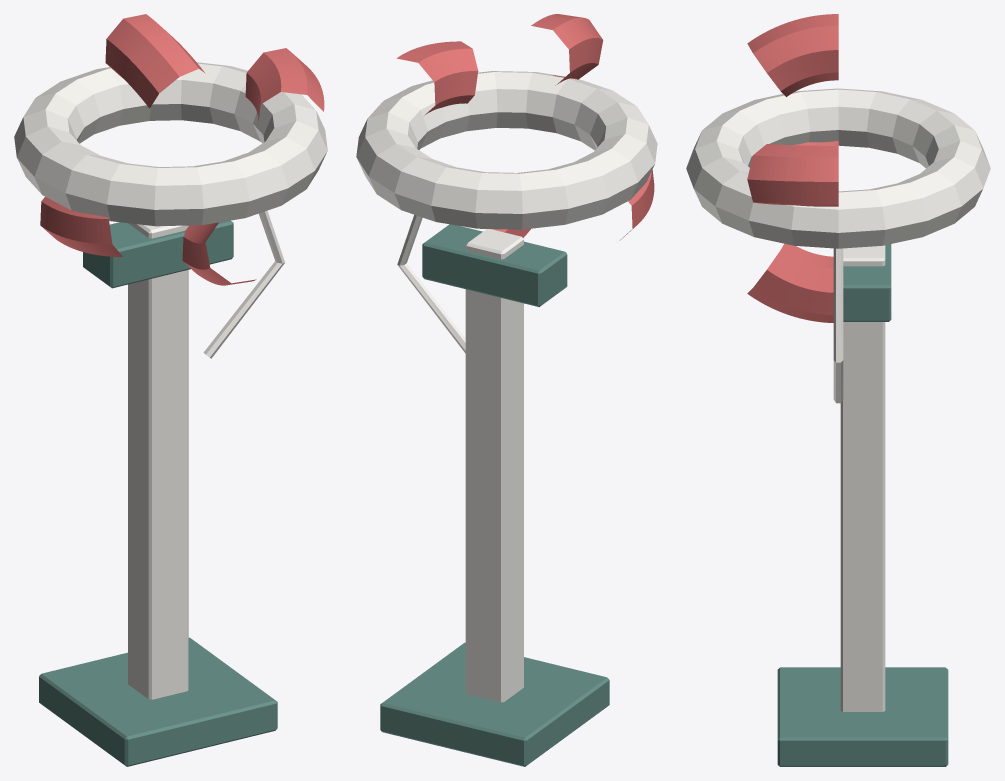
Rendered from amusement-arcade-and-seaside-pier-life-ring-post-d2df1e6d__35398.glb.
The picture shows the model from 3 angles, left to right: view 1: azimuth 30°, elevation 25°; view 2: azimuth 150°, elevation 25°; view 3: azimuth 270°, elevation 25°; orthographic projection. The views are drawn at different scales.
Visible parts, largest first — view 1: life-ring-post; view 2: life-ring-post; view 3: life-ring-post.
Boxes of the visible parts, x1=… form: life-ring-post: x1=14, y1=14, x2=327, y2=766; life-ring-post: x1=356, y1=14, x2=657, y2=766; life-ring-post: x1=686, y1=14, x2=990, y2=766.
Bounding box in the file's own units: 0.7499 × 1.89 × 0.7499.
